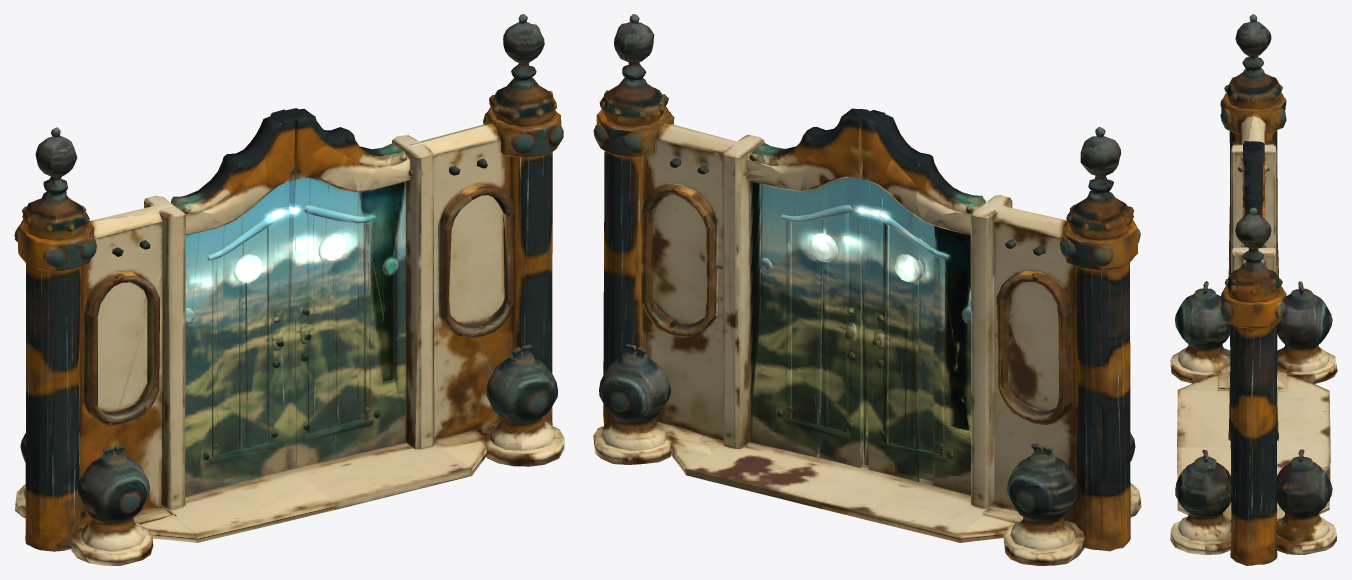
The model's file is arch-gate.glb.
The picture shows the model from 3 angles, left to right: view 1: azimuth 30°, elevation 25°; view 2: azimuth 150°, elevation 25°; view 3: azimuth 270°, elevation 25°; orthographic projection. The views are drawn at different scales.
Visible parts, largest first — view 1: Mesh_0; view 2: Mesh_0; view 3: Mesh_0.
Boxes of the visible parts, x1,y1,x2,y2 form: Mesh_0: (14, 14, 564, 565); Mesh_0: (593, 14, 1141, 565); Mesh_0: (1170, 14, 1337, 565).
Size of the model in its own units: 1 by 0.7617 by 0.3262.
1 material, 1 textured.
